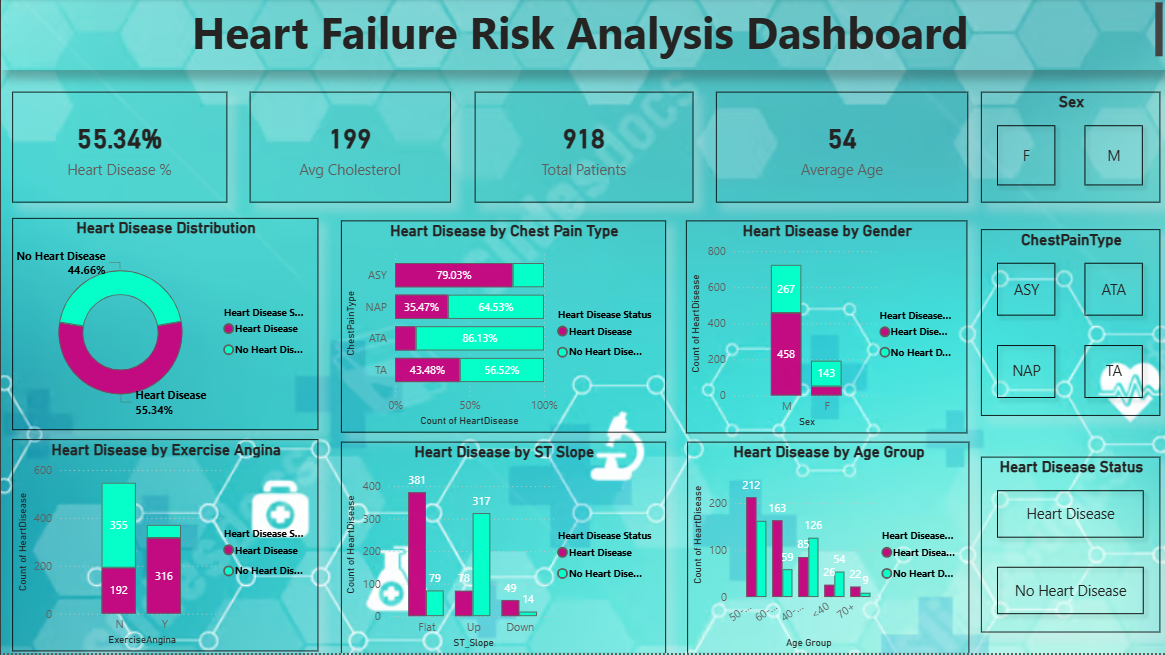

The dashboard page shown, as its layout file describes it:
{"tool":"powerbi","page":{"name":"Page 1","canvas":[1280,720],"ordinal":0},"visuals":[{"type":"textbox","box":[0,0,1280.3,79.6],"z":0},{"type":"card","fields":{"Values":["heart.Total Patients"]},"box":[520.1,102.2,240.1,121.5],"z":1000},{"type":"card","fields":{"Values":["heart.Avg Age"]},"box":[785.4,102.2,277.1,121.5],"z":2000},{"type":"card","fields":{"Values":["heart.Avg Cholesterol"]},"box":[272.7,102.2,220.8,121.5],"z":3000},{"type":"card","fields":{"Values":["heart.Heart Disease %"]},"box":[11.9,102.2,235.6,121.5],"z":4000},{"type":"donutChart","title":"Heart Disease Distribution","fields":{"Y":["Count(heart.HeartDisease)"],"Series":["heart.Heart Disease Status"]},"box":[11.9,241.5,336.4,232.6],"z":5000},{"type":"columnChart","title":"Heart Disease by Gender","fields":{"Category":["heart.Sex"],"Series":["heart.Heart Disease Status"],"Y":["CountNonNull(heart.HeartDisease)"]},"box":[752.8,246,309.7,232.6],"z":6000},{"type":"hundredPercentStackedBarChart","title":"Heart Disease by Chest Pain Type","fields":{"Category":["heart.ChestPainType"],"Series":["heart.Heart Disease Status"],"Y":["CountNonNull(heart.HeartDisease)"]},"box":[373.4,244.5,357.1,232.6],"z":7000},{"type":"columnChart","title":"Heart Disease by Exercise Angina","fields":{"Category":["heart.ExerciseAngina"],"Y":["CountNonNull(heart.HeartDisease)"],"Series":["heart.Heart Disease Status"]},"box":[11.9,484.6,336.4,232.6],"z":8000},{"type":"clusteredColumnChart","title":"Heart Disease by ST Slope","fields":{"Category":["heart.ST_Slope"],"Series":["heart.Heart Disease Status"],"Y":["CountNonNull(heart.HeartDisease)"]},"box":[373.4,487.5,357.1,232.6],"z":9000},{"type":"clusteredColumnChart","title":"Heart Disease by Age Group","fields":{"Category":["heart.Age Group"],"Series":["heart.Heart Disease Status"],"Y":["CountNonNull(heart.HeartDisease)"]},"box":[752.8,487.5,309.7,232.6],"z":10000},{"type":"advancedSlicerVisual","fields":{"Values":["heart.Sex"]},"box":[1075.8,102.2,197.1,121.5],"z":11000},{"type":"advancedSlicerVisual","fields":{"Values":["heart.Heart Disease Status"]},"box":[1075.8,503.8,197.1,192.6],"z":12000},{"type":"advancedSlicerVisual","fields":{"Values":["heart.ChestPainType"]},"box":[1075.8,253.4,197.1,204.5],"z":13000}]}

Visuals, with their boxes in screenshot pixels (x1, y1, x2, y2), scaled from the page's 1280x720 canvas onto the 1165x655 screenshot:
textbox: locate(0, 0, 1164, 72)
card - heart.Total Patients: locate(473, 93, 692, 204)
card - heart.Avg Age: locate(715, 93, 967, 204)
card - heart.Avg Cholesterol: locate(248, 93, 449, 204)
card - heart.Heart Disease %: locate(11, 93, 225, 204)
"Heart Disease Distribution" donutChart: locate(11, 220, 317, 431)
"Heart Disease by Gender" columnChart: locate(685, 224, 967, 435)
"Heart Disease by Chest Pain Type" hundredPercentStackedBarChart: locate(340, 222, 665, 434)
"Heart Disease by Exercise Angina" columnChart: locate(11, 441, 317, 652)
"Heart Disease by ST Slope" clusteredColumnChart: locate(340, 443, 665, 654)
"Heart Disease by Age Group" clusteredColumnChart: locate(685, 443, 967, 654)
advancedSlicerVisual - heart.Sex: locate(979, 93, 1159, 204)
advancedSlicerVisual - heart.Heart Disease Status: locate(979, 458, 1159, 634)
advancedSlicerVisual - heart.ChestPainType: locate(979, 231, 1159, 417)
